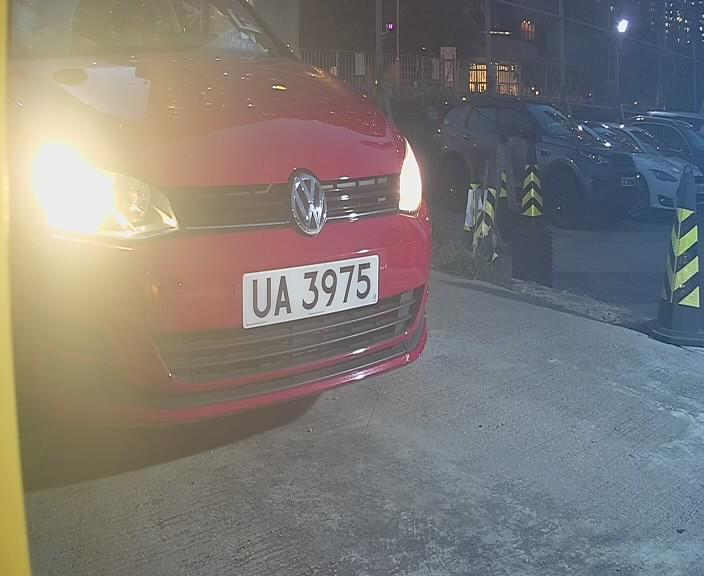Car: (13, 1, 532, 443)
License Plate: (233, 250, 387, 330)
